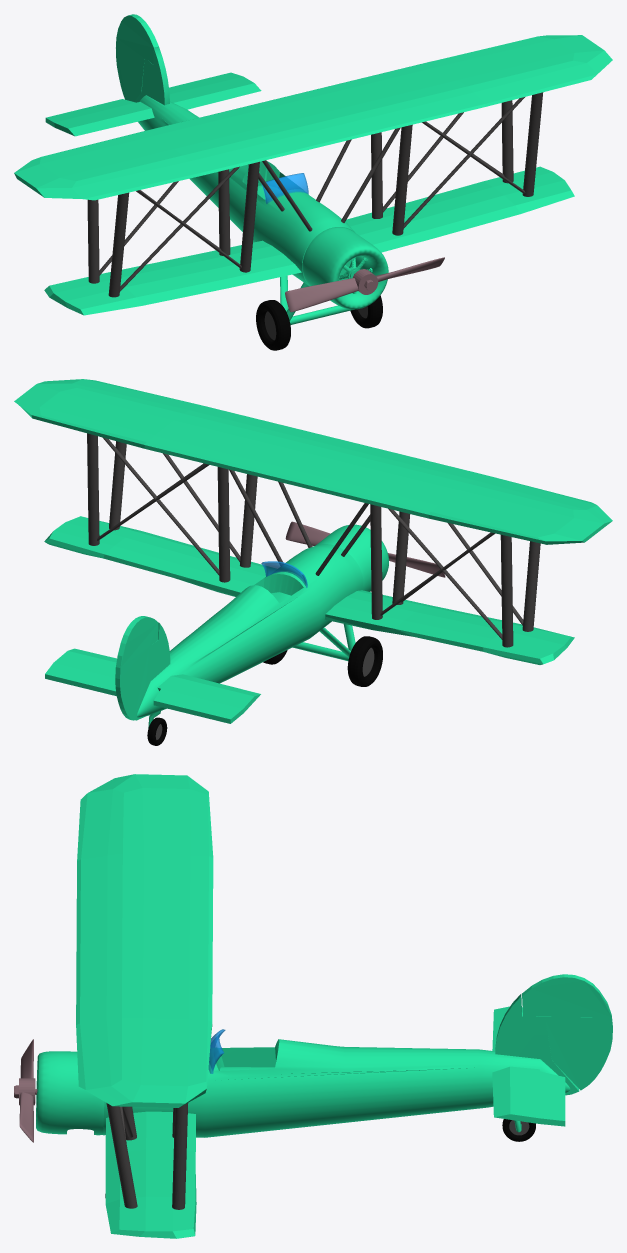
File: biplane.glb
The picture shows the model from 3 angles, top to bottom: view 1: azimuth 30°, elevation 25°; view 2: azimuth 150°, elevation 25°; view 3: azimuth 270°, elevation 25°; orthographic projection. The views are drawn at different scales.
Parts seen in each view (by area): view 1: Wings, PlaneBody, Struts, TailWings, Tail, Propeller, Wheels, WindShield; view 2: Wings, PlaneBody, Struts, TailWings, Tail, Wheels, Propeller; view 3: Wings, PlaneBody, Tail, TailWings, Struts, Propeller.
Part boxes in pixels (<box>): Wings: <box>14,35,612,315</box>; PlaneBody: <box>135,47,388,324</box>; Struts: <box>87,92,543,297</box>; TailWings: <box>45,72,261,136</box>; Tail: <box>116,14,158,102</box>; Propeller: <box>285,257,444,312</box>; Wheels: <box>256,295,382,350</box>; WindShield: <box>261,173,308,203</box>; Wings: <box>14,379,612,664</box>; PlaneBody: <box>134,524,388,728</box>; Struts: <box>87,433,540,647</box>; TailWings: <box>45,648,260,723</box>; Tail: <box>115,616,158,720</box>; Wheels: <box>263,636,382,686</box>; Propeller: <box>285,521,445,577</box>; Wings: <box>76,774,213,1238</box>; PlaneBody: <box>36,994,579,1137</box>; Tail: <box>522,974,612,1090</box>; TailWings: <box>492,1006,565,1126</box>; Struts: <box>106,1103,188,1209</box>; Propeller: <box>14,1039,37,1142</box>.
Bounding box in the file's own units: 18.61 × 6.9 × 14.35.
